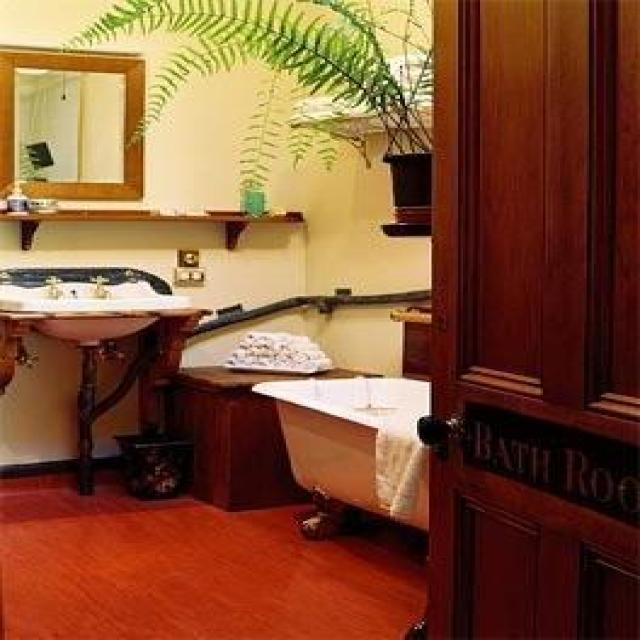door: (417, 0, 638, 638)
plants: (56, 0, 434, 221)
pots: (112, 430, 192, 499)
rugs: (0, 496, 427, 638)
shelves: (0, 206, 305, 250)
windows: (0, 45, 145, 199)
